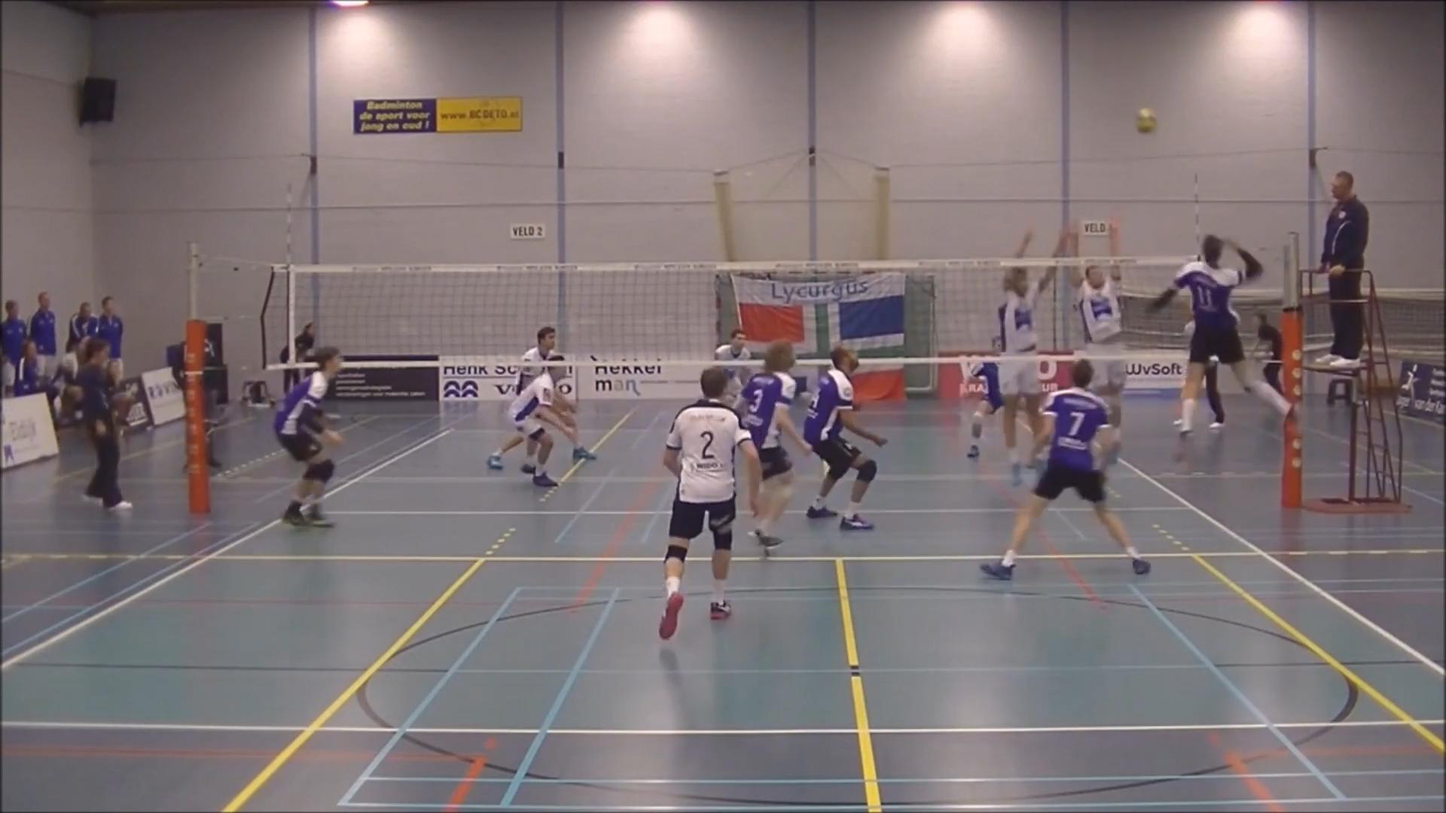Attack: (1138, 226, 1311, 428)
Block: (984, 212, 1066, 503), (1062, 208, 1137, 468)
Player: (981, 360, 1149, 579), (659, 367, 761, 639), (738, 340, 809, 553), (804, 346, 886, 530), (273, 347, 342, 526), (508, 366, 577, 487), (964, 361, 1003, 458), (715, 327, 752, 408), (487, 435, 538, 473)
ball: (1139, 107, 1156, 131)
